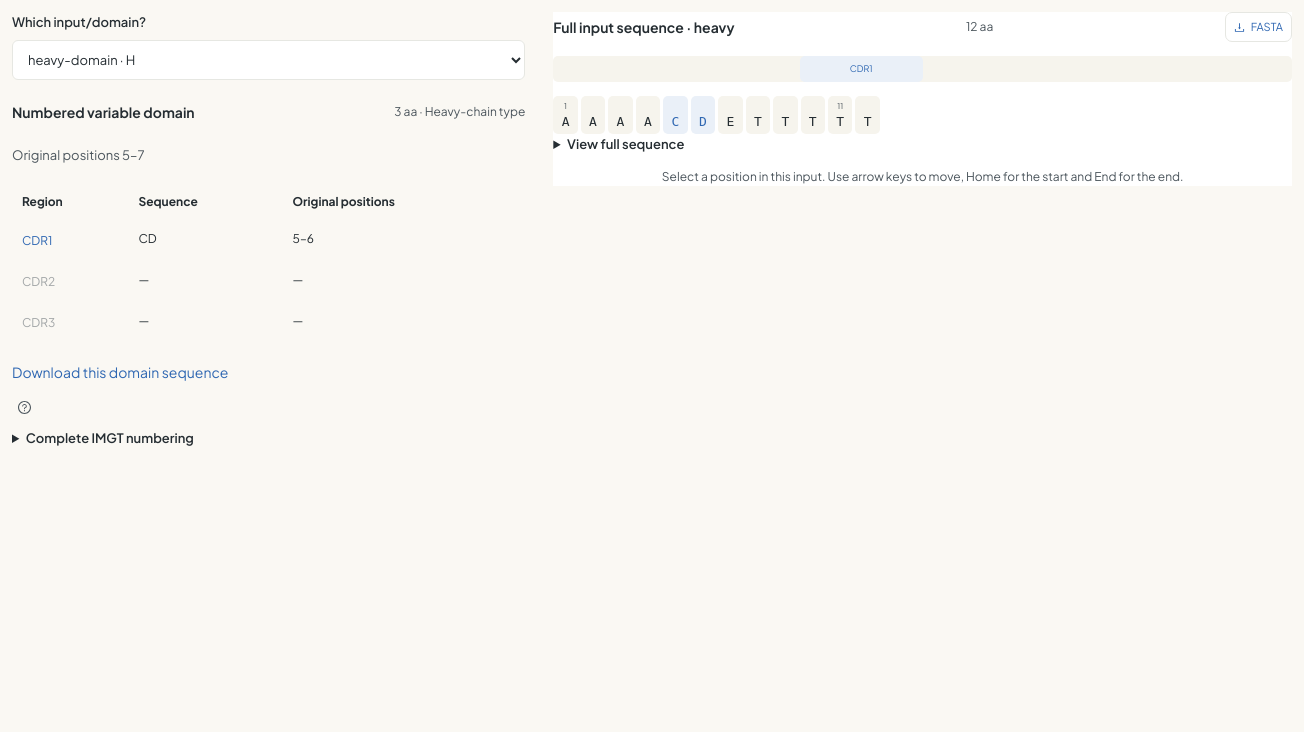
links CDRs to absolute full-input positions and keeps IMGT insertions and domain exports intact
The image size is (1304, 732).
Expected: the text "Original positions 5–7" is shown, top-left (12, 147), bottom-right (144, 163)
Expected: the element "Full input sequence · heavy" shows "12 aa", top-left (966, 19), bottom-right (993, 34)
What coordinates should you click on to do the following:
click the button "CDR1" in the row of "5–6"
I would click on:
 (37, 241)
Its box is top-left (22, 229), bottom-right (52, 252).
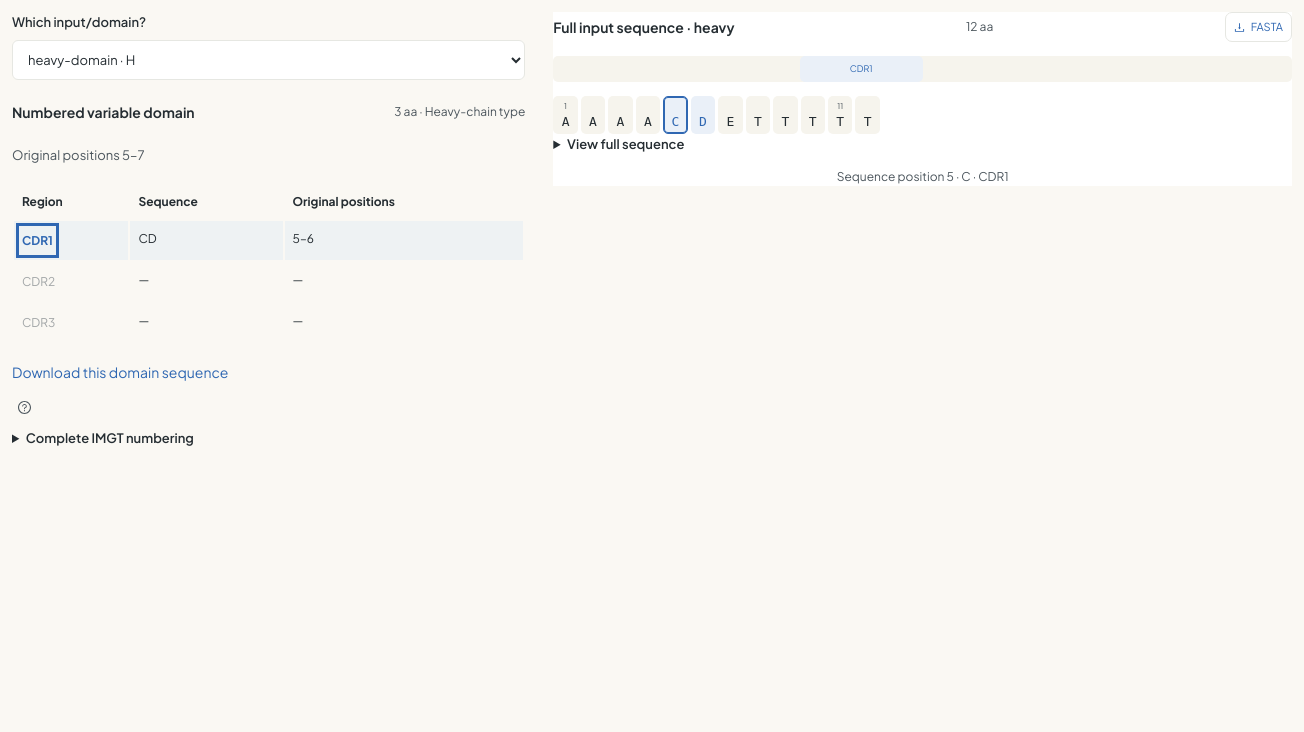
Expected: the text "Sequence position 5 · C · CDR1" is shown, top-left (837, 169), bottom-right (1009, 184)
What coordinates should you click on to do the following:
click the heading "Complete IMGT numbering"
I would click on:
 (110, 438)
Its box is top-left (26, 430), bottom-right (194, 446).
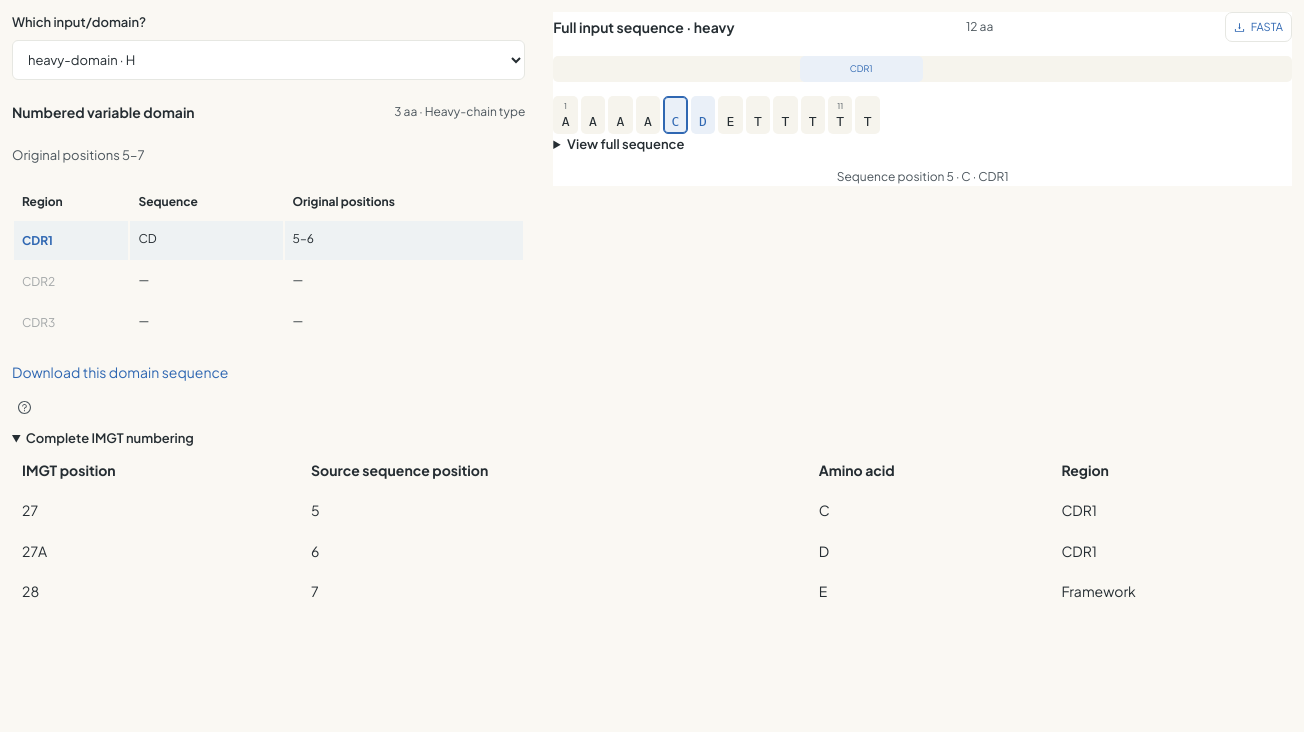
Expected: the text "27A" is shown, top-left (14, 532), bottom-right (301, 570)
